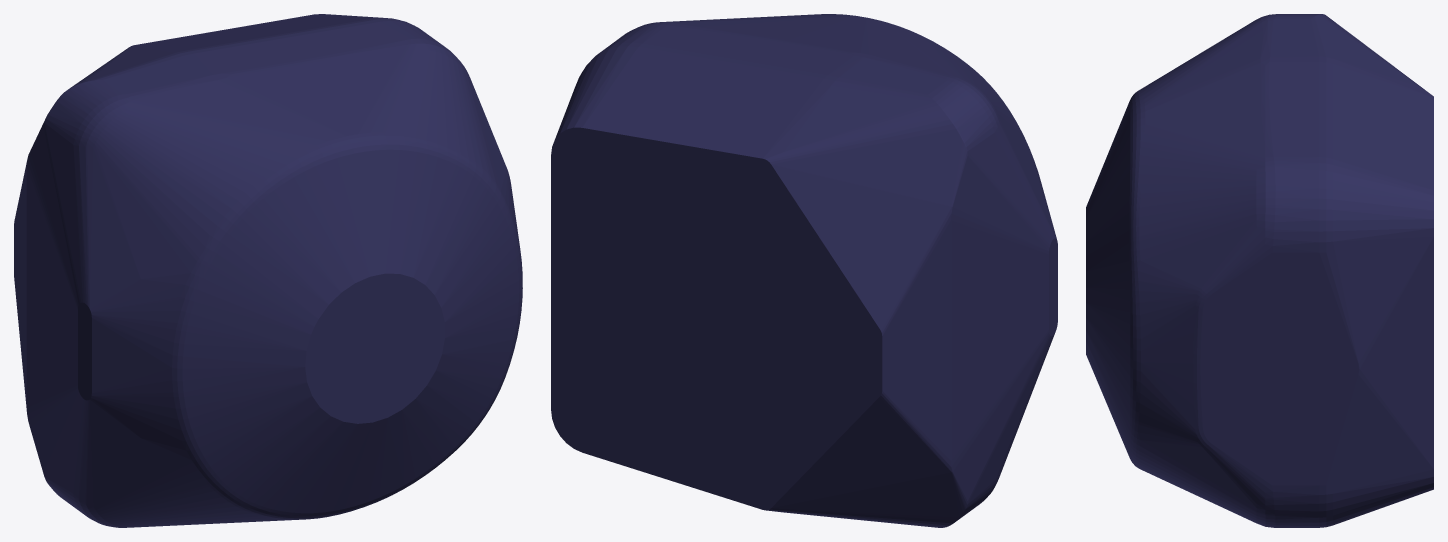
File: palm.dae
The picture shows the model from 3 angles, left to right: view 1: azimuth 30°, elevation 25°; view 2: azimuth 150°, elevation 25°; view 3: azimuth 270°, elevation 25°; orthographic projection. The views are drawn at different scales.
Visible parts, largest first — view 1: palm; view 2: palm; view 3: palm.
Boxes of the visible parts, left/top/right/bottom form: palm: left=14, top=14, right=522, bottom=527; palm: left=551, top=14, right=1057, bottom=527; palm: left=1086, top=14, right=1433, bottom=527.
Bounding box in the file's own units: 0.1332 × 0.1048 × 0.1302.
